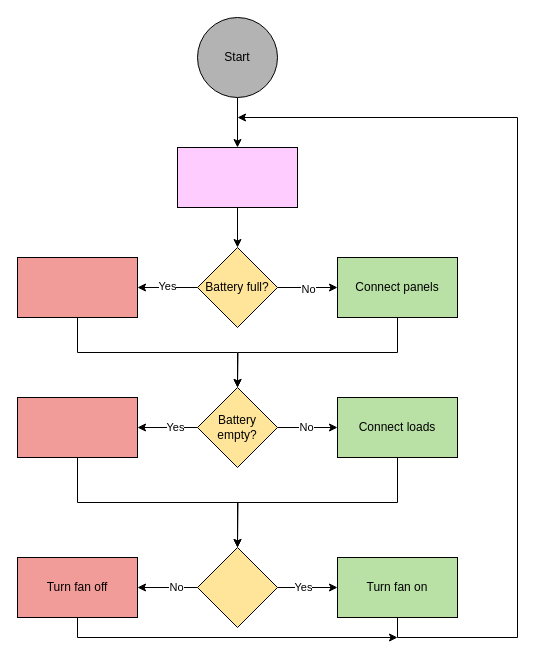
The diagram is 543 pixels wide and 663 high, and some of its shapes have lost their labels. The shapes that lost their labels are listed below. From the top down, each one's box as (x1, y1, x2, y2) in pixels, then its label:
(176, 146, 298, 208): Read cell voltages
(16, 256, 138, 318): Disconnect panels
(16, 396, 138, 458): Disconnect loads
(196, 546, 278, 628): Current flowing?
